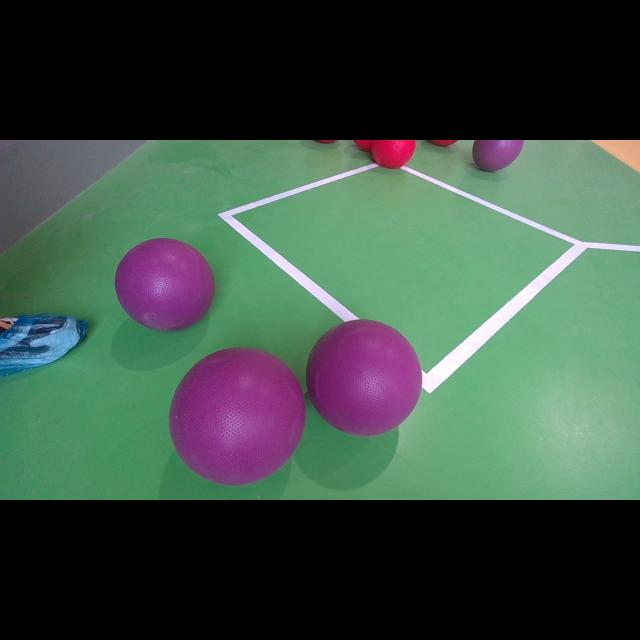P: (168, 347, 308, 485), (307, 319, 423, 437), (114, 238, 216, 332), (464, 140, 520, 172)
